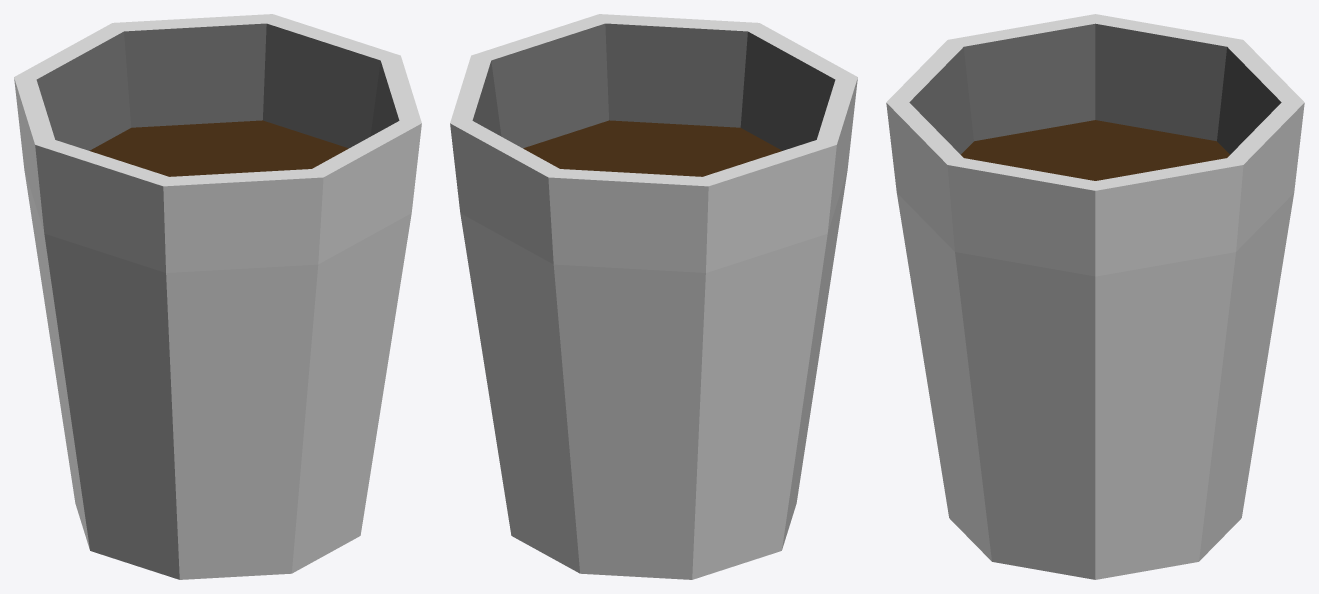
Rendered from Vase_Empty.fbx.
The picture shows the model from 3 angles, left to right: view 1: azimuth 30°, elevation 25°; view 2: azimuth 150°, elevation 25°; view 3: azimuth 270°, elevation 25°; orthographic projection.
Parts seen in each view (by area): view 1: Vase_Empty; view 2: Vase_Empty; view 3: Vase_Empty.
Part boxes in pixels (<box>): Vase_Empty: <box>14,14,421,579</box>; Vase_Empty: <box>450,14,857,579</box>; Vase_Empty: <box>886,14,1304,579</box>.
Bounding box in the file's own units: 83.21 × 91.21 × 83.21.
